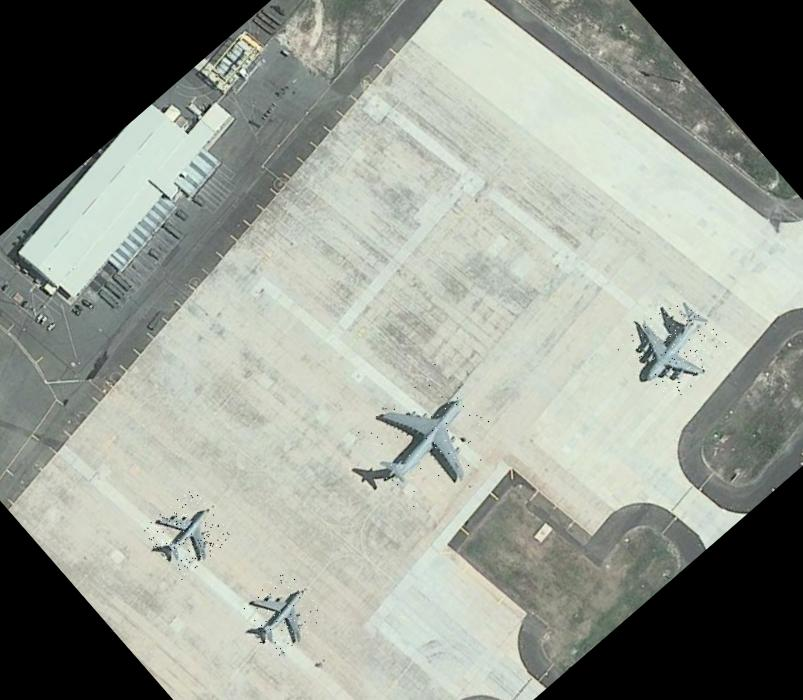A14: (140, 486, 234, 580), (235, 568, 328, 662)
A3: (612, 286, 732, 406)
A4: (348, 360, 506, 517)
